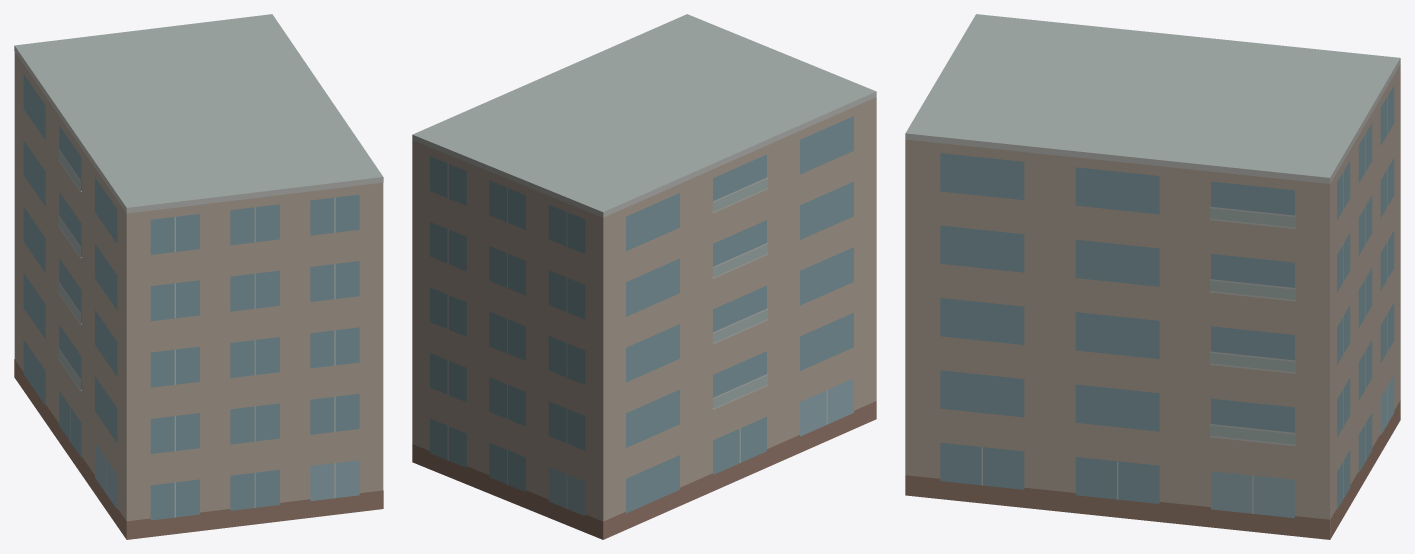
File: survey-upis-32878444.glb
3 views of the same model, side by side, from view 1: azimuth 30°, elevation 25°; view 2: azimuth 150°, elevation 25°; view 3: azimuth 270°, elevation 25° (orthographic). The views are drawn at different scales.
Visible parts, largest first — view 1: survey-upis-32878444.tmp; view 2: survey-upis-32878444.tmp; view 3: survey-upis-32878444.tmp.
Boxes of the visible parts, box(x1,y1,x2,y2) form: survey-upis-32878444.tmp: box(14, 14, 383, 539); survey-upis-32878444.tmp: box(412, 14, 876, 539); survey-upis-32878444.tmp: box(905, 14, 1400, 539).
Bounding box in the file's own units: 13.99 × 14.4 × 17.86.
